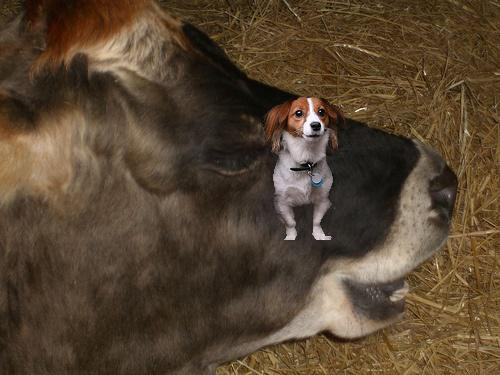tampered: (264, 98, 346, 240)
